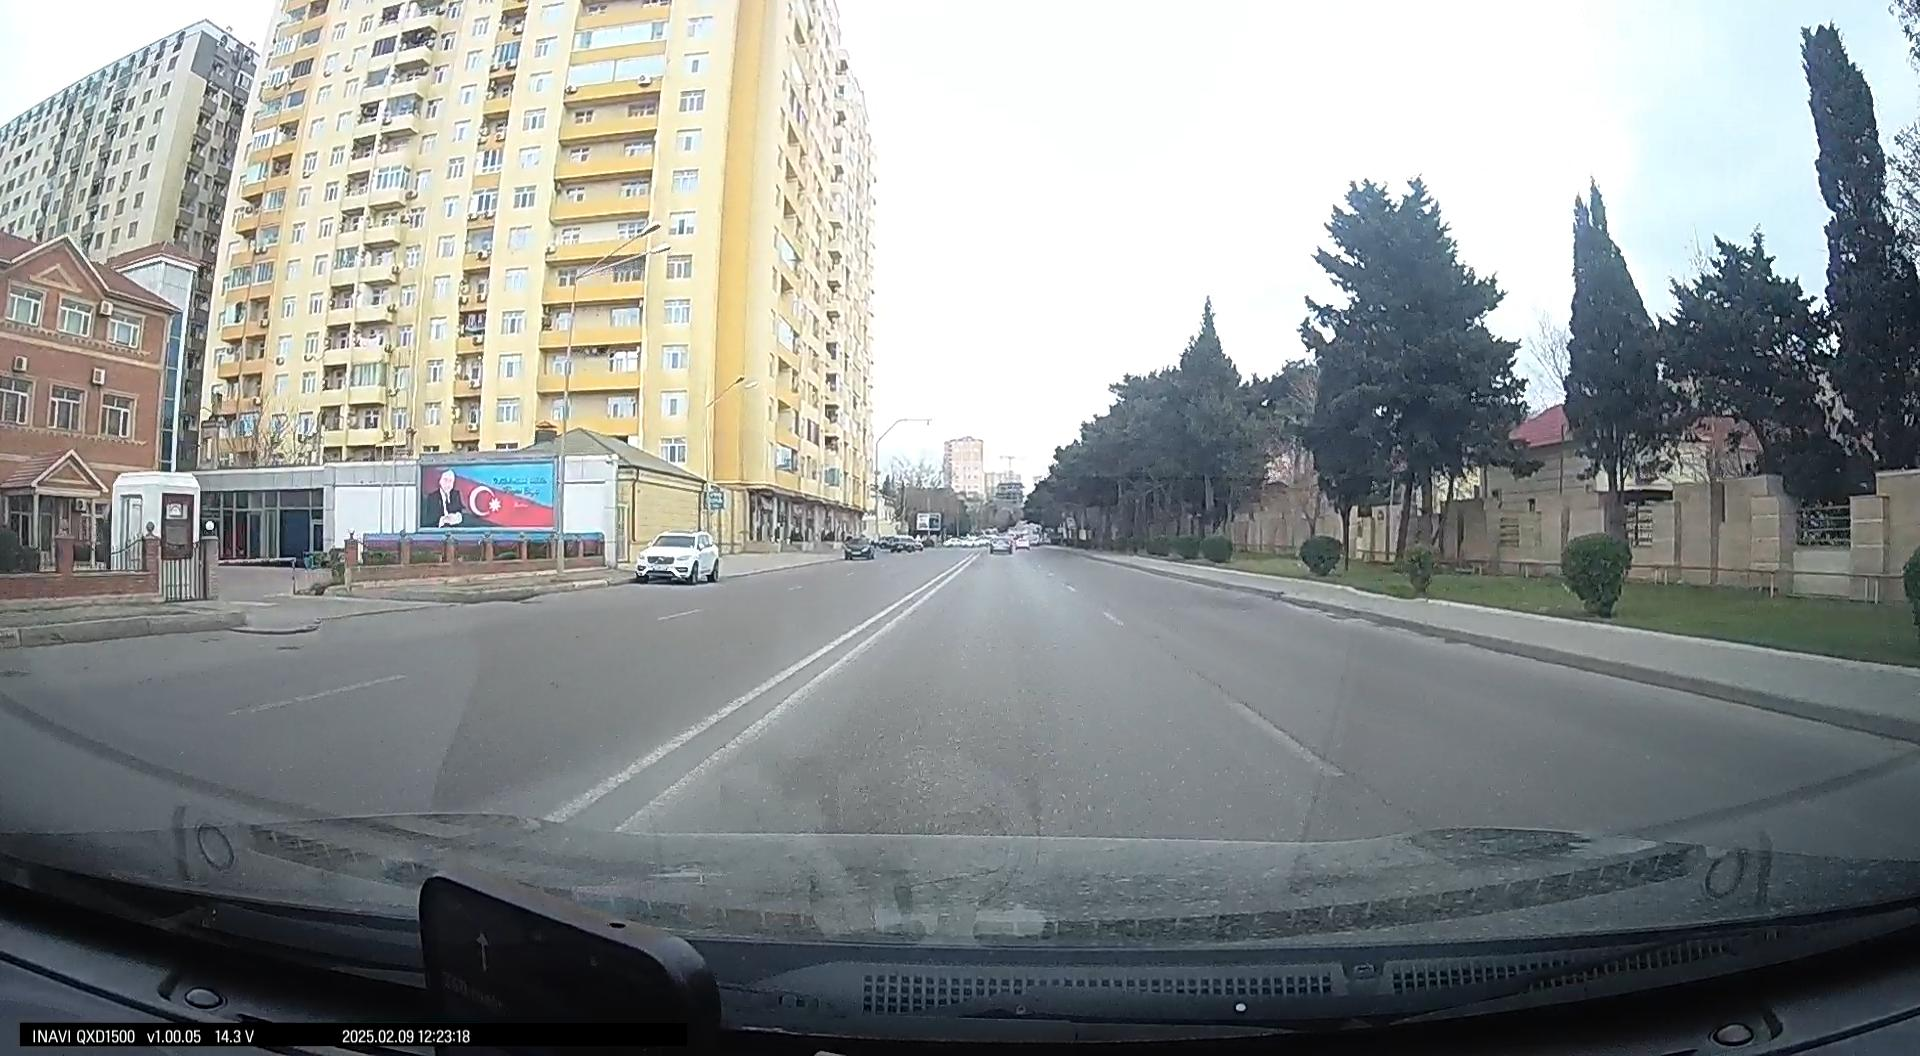banner: (416, 462, 556, 529)
